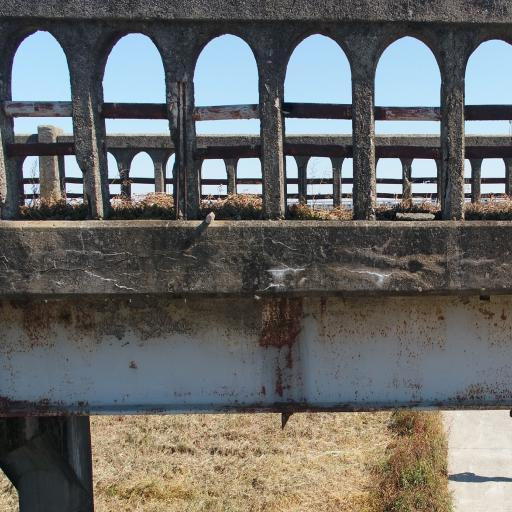exposed_rebar: (176, 82, 182, 218), (183, 84, 187, 220)
